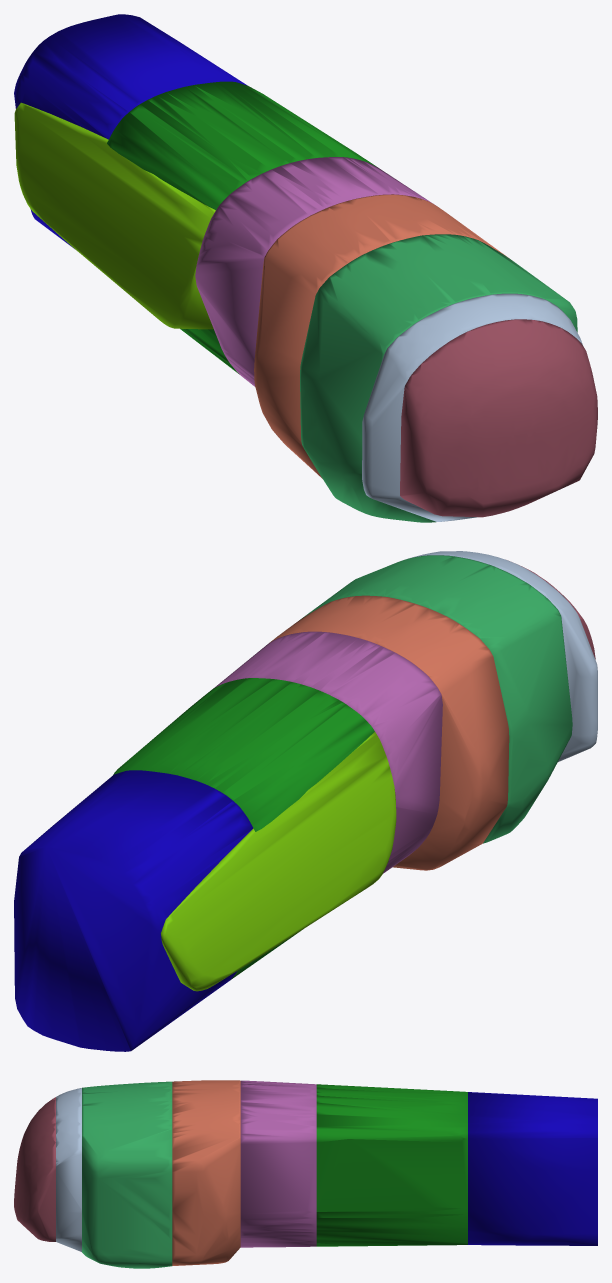
File: upper_leg_collision.obj
The picture shows the model from 3 angles, top to bottom: view 1: azimuth 30°, elevation 25°; view 2: azimuth 150°, elevation 25°; view 3: azimuth 270°, elevation 25°; orthographic projection. The views are drawn at different scales.
Bounding box in the file's own units: 0.105 × 0.0983 × 0.3471.
